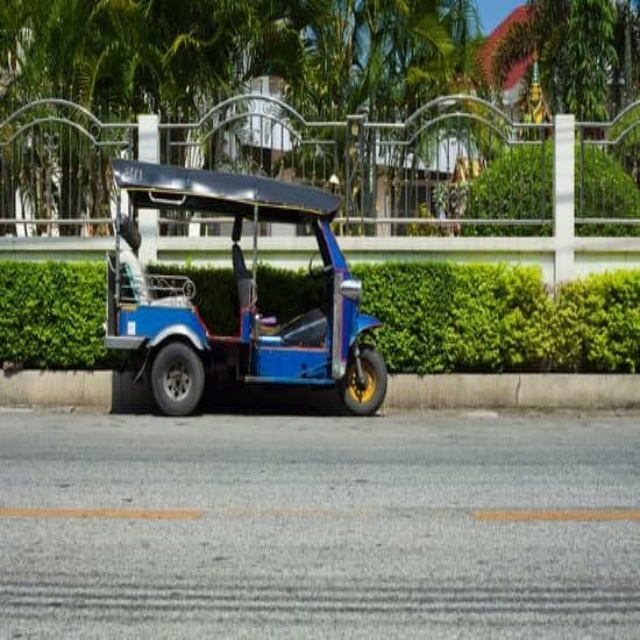Motorcycle: (102, 157, 389, 417)
